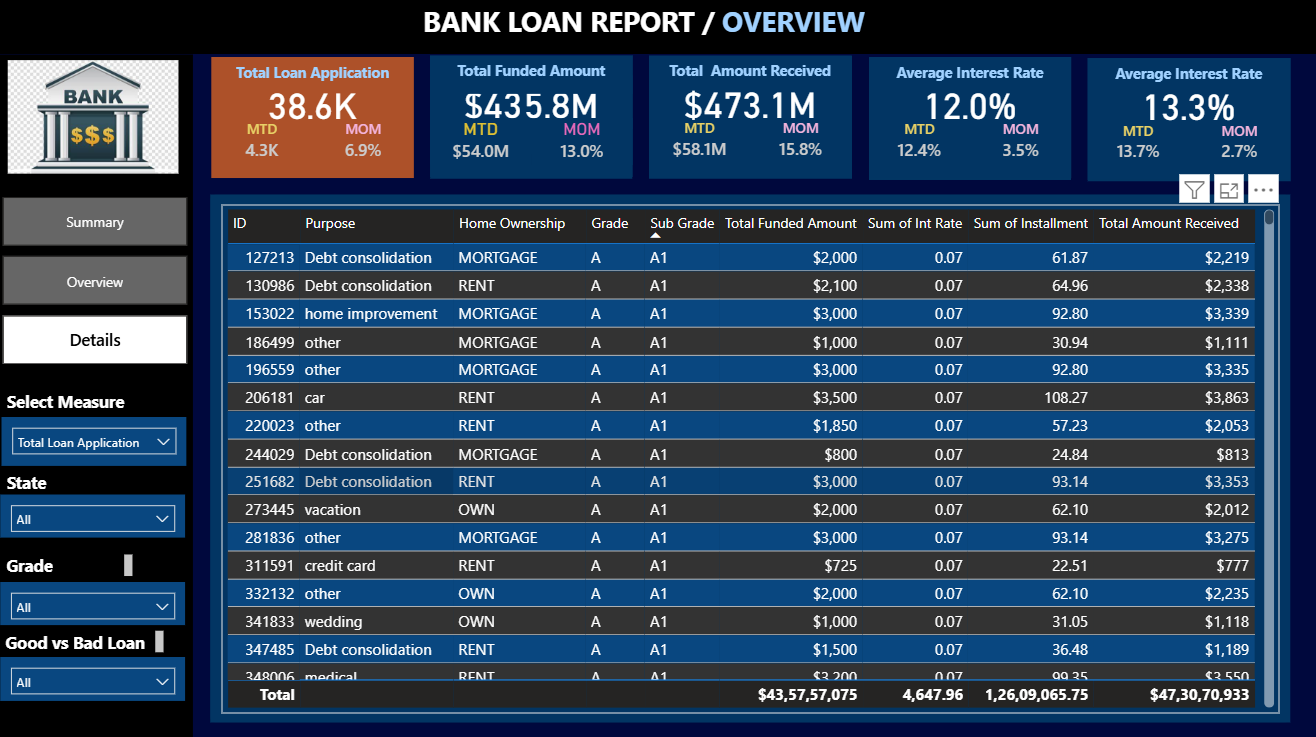

Layout of this report page (visuals, bound fields, positions):
{"tool":"powerbi","page":{"name":"Details","canvas":[1280,720],"ordinal":2},"visuals":[{"type":"shape","box":[421.1,56.8,195,117],"z":0,"group":"g2"},{"type":"shape","box":[632.7,56.8,195,117],"z":0,"group":"g3"},{"type":"shape","box":[209.5,58.1,195,117],"z":0,"group":"g1"},{"type":"shape","box":[844.3,58.1,195,117],"z":0,"group":"g4"},{"type":"shape","box":[1055.9,59.5,195,117],"z":0,"group":"g5"},{"type":"shape","box":[208.2,190.6,1042.3,509.7],"z":0},{"type":"shape","box":[0,0,1280,55],"z":1000},{"type":"shape","box":[0,55.5,192,664.7],"z":2000},{"type":"card","fields":{"Values":["Bank_loan_Data.Total_Funded_Amount"]},"box":[421.1,76,194.9,51.1],"z":2000,"group":"g2"},{"type":"card","fields":{"Values":["Bank_loan_Data.Total Amount Received"]},"box":[632.7,76,194.9,51.1],"z":2000,"group":"g3"},{"type":"card","fields":{"Values":["Bank_loan_Data.Total Loan Application"]},"box":[209.5,77.3,194.9,51.1],"z":2000,"group":"g1"},{"type":"card","fields":{"Values":["Bank_loan_Data.AVG INTEREST RATE"]},"box":[844.3,77.3,194.9,51.1],"z":2000,"group":"g4"},{"type":"card","fields":{"Values":["Bank_loan_Data.AVERAGE DTI"]},"box":[1055.9,78.7,194.9,51.1],"z":2000,"group":"g5"},{"type":"textbox","box":[408.9,0,439.1,49.4],"z":3000},{"type":"group","id":"g1","title":"Group 1","box":[209.5,58.1,194.7,116.3],"z":4000},{"type":"card","title":"MTD","fields":{"Values":["Bank_loan_Data.MTD LOAN AMOUNT"]},"box":[421.1,117.4,97.4,45.1],"z":4000,"group":"g2"},{"type":"card","title":"MTD","fields":{"Values":["Bank_loan_Data.MTD TOTAL AMOUNT RECEIVED"]},"box":[632.7,117.4,97.4,45.1],"z":4000,"group":"g3"},{"type":"card","title":"MTD","fields":{"Values":["Bank_loan_Data.MTD Loan Application"]},"box":[209.5,118.7,97.4,45.1],"z":4000,"group":"g1"},{"type":"card","title":"MTD","fields":{"Values":["Bank_loan_Data.MTD AVG INTEREST RATE"]},"box":[844.3,118.7,97.4,45.1],"z":4000,"group":"g4"},{"type":"card","title":"MTD","fields":{"Values":["Bank_loan_Data.MTD AVERAGE DTI"]},"box":[1055.9,120.1,97.4,45.1],"z":4000,"group":"g5"},{"type":"group","id":"g2","title":"Group 1","box":[421.1,56.8,194.7,117.6],"z":5000},{"type":"group","id":"g3","title":"Group 1","box":[632.7,56.8,194.7,117.6],"z":6000},{"type":"card","title":"MOM","fields":{"Values":["Bank_loan_Data.MOM FUNDED AMOUNT"]},"box":[518.5,117.4,97.4,45.1],"z":6000,"group":"g2"},{"type":"card","title":"MOM","fields":{"Values":["Bank_loan_Data.MOM Amount received"]},"box":[730.1,117.4,97.4,45.1],"z":6000,"group":"g3"},{"type":"card","title":"MOM","fields":{"Values":["Bank_loan_Data.MOM LOAN APPLICATION"]},"box":[306.9,118.7,97.4,45.1],"z":6000,"group":"g1"},{"type":"card","title":"MOM","fields":{"Values":["Bank_loan_Data.MOM AVG INTEREST RATE"]},"box":[941.7,118.7,97.4,45.1],"z":6000,"group":"g4"},{"type":"card","title":"MOM","fields":{"Values":["Bank_loan_Data.MOM DTI"]},"box":[1153.3,120.1,97.4,45.1],"z":6000,"group":"g5"},{"type":"textbox","box":[421.1,56.8,194.9,37],"z":7000,"group":"g2"},{"type":"textbox","box":[632.7,56.8,194.9,37],"z":7000,"group":"g3"},{"type":"textbox","box":[209.5,58.1,194.9,37],"z":7000,"group":"g1"},{"type":"group","id":"g4","title":"Group 1","box":[844.3,58.1,194.7,117.6],"z":7000},{"type":"textbox","box":[844.3,58.1,194.9,37],"z":7000,"group":"g4"},{"type":"textbox","box":[1055.9,59.5,194.9,37],"z":7000,"group":"g5"},{"type":"group","id":"g5","title":"Group 1","box":[1055.9,59.5,194.7,117.6],"z":8000},{"type":"slicer","fields":{"Values":["Bank_loan_Data.address_state"]},"box":[5.6,480.7,178.5,41.9],"z":9000},{"type":"textbox","box":[5.6,606.4,162.2,31.1],"z":10000},{"type":"slicer","fields":{"Values":["Bank_loan_Data.grade"]},"box":[5.6,564.5,178.5,41.9],"z":11000},{"type":"slicer","fields":{"Values":["Bank_loan_Data.Good Loan Vs Bad Loan"]},"box":[6.1,637.6,178.6,42.2],"z":12000},{"type":"textbox","box":[7,452.3,131.1,37.9],"z":13000},{"type":"textbox","box":[7,533.4,131.1,31.1],"z":14000},{"type":"slicer","fields":{"Values":["Select Measure.Select Measure"]},"box":[7,405,178.5,47.3],"z":15000},{"type":"textbox","box":[7,373.9,131.1,37.9],"z":16000},{"type":"tableEx","fields":{"Values":["Bank_loan_Data.id","Bank_loan_Data.purpose","Bank_loan_Data.home_ownership","Bank_loan_Data.grade","Bank_loan_Data.sub_grade","Bank_loan_Data.Total_Funded_Amount","Sum(Bank_loan_Data.int_rate)","Sum(Bank_loan_Data.installment)","Bank_loan_Data.Total Amount Received"]},"box":[219,200.1,1020.7,490.7],"z":17000},{"type":"image","box":[8.1,21.6,174.4,187.9],"z":18000},{"type":"pageNavigator","box":[8.1,193.3,178.5,162.2],"z":19000}]}

Visuals, with their boxes in screenshot pixels (x1, y1, x2, y2), scaled from the page's 1280x720 canvas onto the 1316x737 screenshot:
shape: (433,58,633,178)
shape: (650,58,851,178)
shape: (215,59,416,179)
shape: (868,59,1069,179)
shape: (1086,61,1286,181)
shape: (214,195,1286,717)
shape: (0,0,1315,56)
shape: (0,57,197,736)
card - Bank_loan_Data.Total_Funded_Amount: (433,78,633,130)
card - Bank_loan_Data.Total Amount Received: (650,78,851,130)
card - Bank_loan_Data.Total Loan Application: (215,79,416,131)
card - Bank_loan_Data.AVG INTEREST RATE: (868,79,1068,131)
card - Bank_loan_Data.AVERAGE DTI: (1086,81,1286,133)
textbox: (420,0,872,51)
"Group 1" group: (215,59,416,179)
"MTD" card: (433,120,533,166)
"MTD" card: (650,120,751,166)
"MTD" card: (215,122,316,168)
"MTD" card: (868,122,968,168)
"MTD" card: (1086,123,1186,169)
"Group 1" group: (433,58,633,179)
"Group 1" group: (650,58,851,179)
"MOM" card: (533,120,633,166)
"MOM" card: (751,120,851,166)
"MOM" card: (316,122,416,168)
"MOM" card: (968,122,1068,168)
"MOM" card: (1186,123,1286,169)
textbox: (433,58,633,96)
textbox: (650,58,851,96)
textbox: (215,59,416,97)
"Group 1" group: (868,59,1068,180)
textbox: (868,59,1068,97)
textbox: (1086,61,1286,99)
"Group 1" group: (1086,61,1286,181)
slicer - Bank_loan_Data.address_state: (6,492,189,535)
textbox: (6,621,173,653)
slicer - Bank_loan_Data.grade: (6,578,189,621)
slicer - Bank_loan_Data.Good Loan Vs Bad Loan: (6,653,190,696)
textbox: (7,463,142,502)
textbox: (7,546,142,578)
slicer - Select Measure.Select Measure: (7,415,191,463)
textbox: (7,383,142,422)
tableEx - Bank_loan_Data.id x Bank_loan_Data.purpose: (225,205,1275,707)
image: (8,22,188,214)
pageNavigator: (8,198,192,364)
